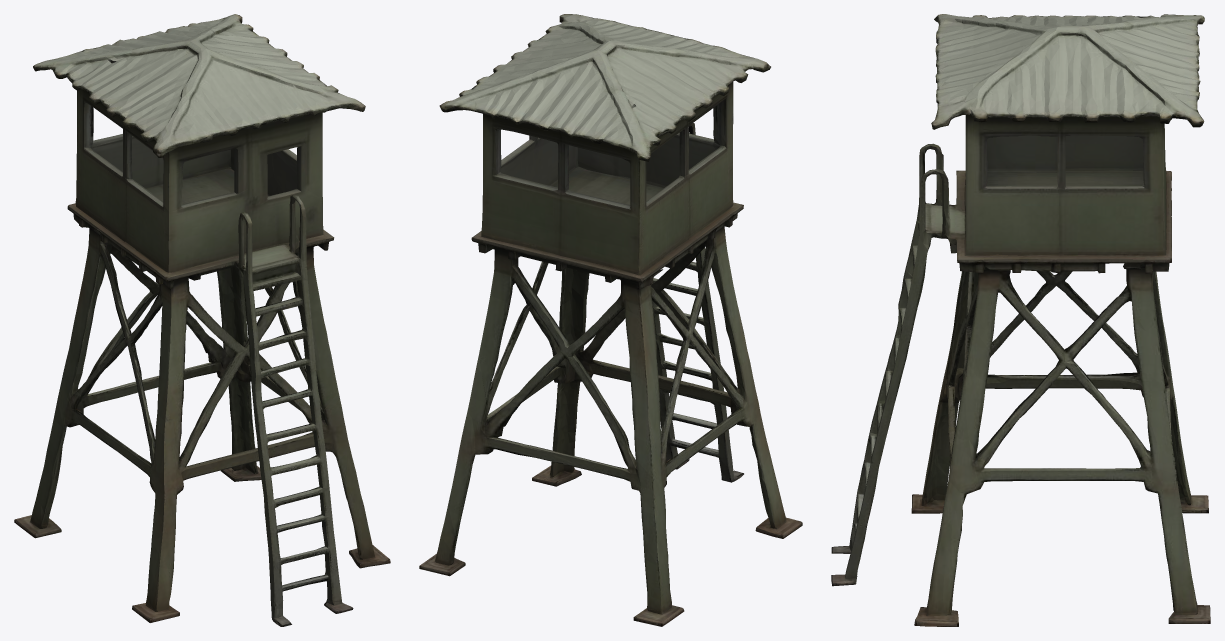
The model's file is tower.glb.
3 renders of one model, left to right at view 1: azimuth 30°, elevation 25°; view 2: azimuth 150°, elevation 25°; view 3: azimuth 270°, elevation 25°, orthographic. The views are drawn at different scales.
Parts seen in each view (by area): view 1: geometry_0; view 2: geometry_0; view 3: geometry_0.
Boxes of the visible parts, left/top/right/bottom form: geometry_0: left=14, top=14, right=390, bottom=626; geometry_0: left=419, top=14, right=802, bottom=626; geometry_0: left=831, top=14, right=1210, bottom=626.
Size of the model in its own units: 0.5164 by 1 by 0.6418.
Materials: 1 (1 with a texture image).
